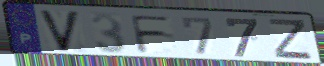3: (90, 11, 128, 54)
7: (178, 15, 216, 57), (224, 17, 260, 59)
F: (128, 14, 175, 55)
V: (37, 9, 83, 54)
Z: (267, 18, 315, 62)
